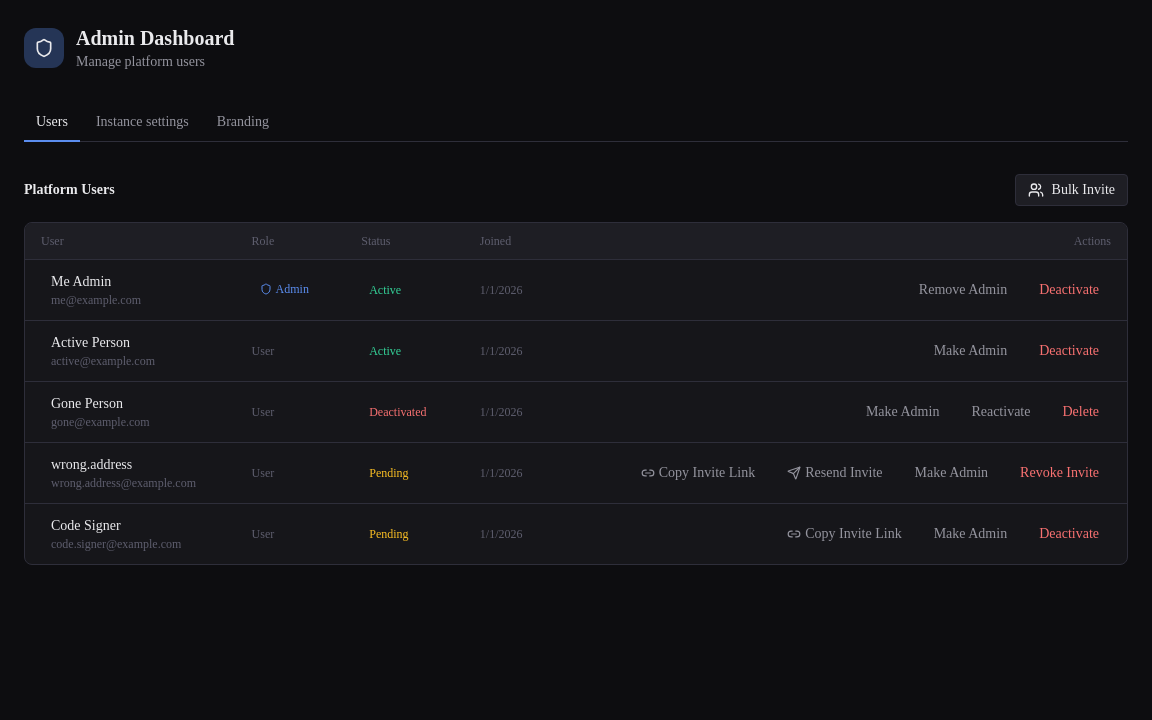
Admin users: Resend invite › emails a fresh link, refreshes the list and says it was sent
Click the button "Resend Invite". click: point(835, 473)
box: [775,457,895,489]
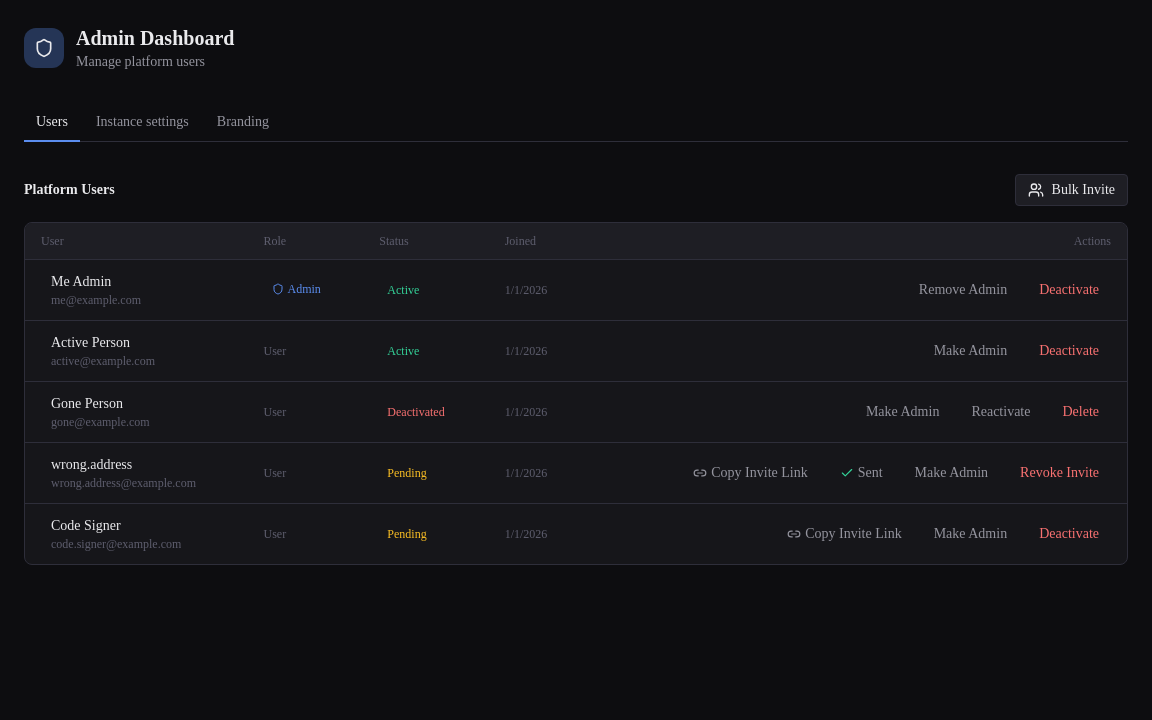
Expected: the button "Sent" is shown, [828,457,895,489]
